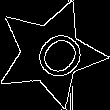O_SW: (16, 20, 85, 87)
